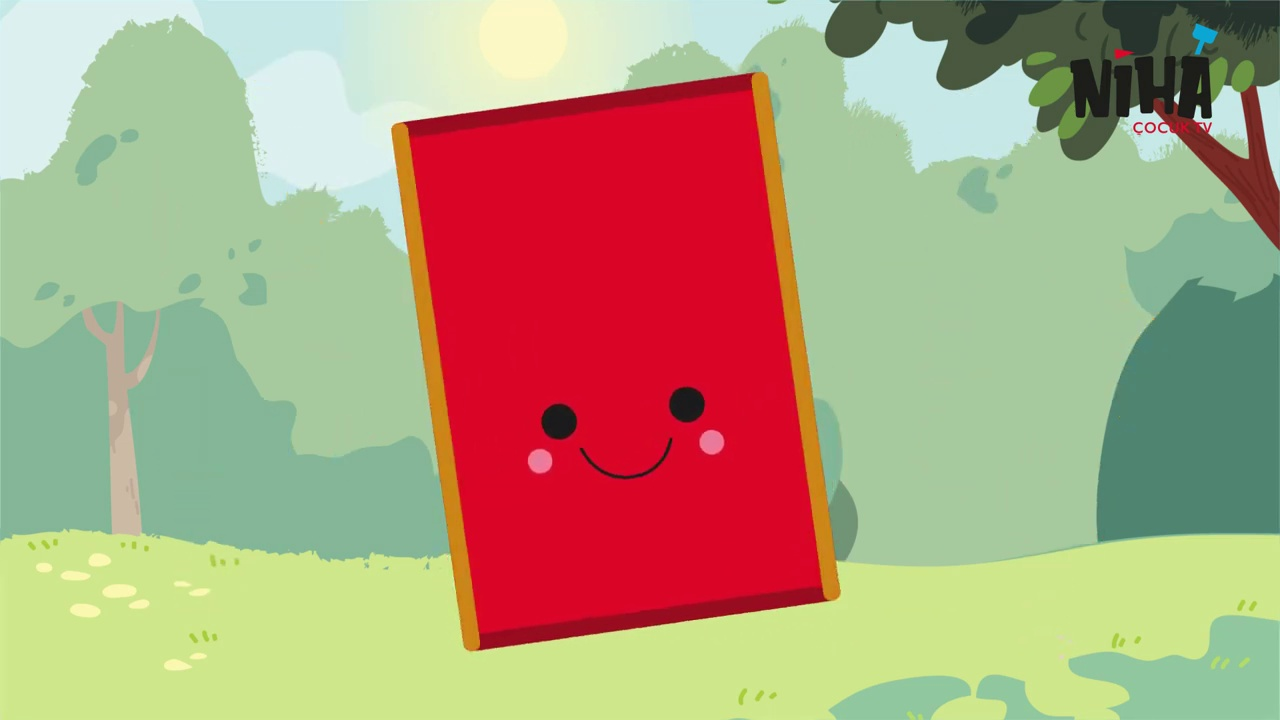dikdortgen: (387, 72, 865, 656)
